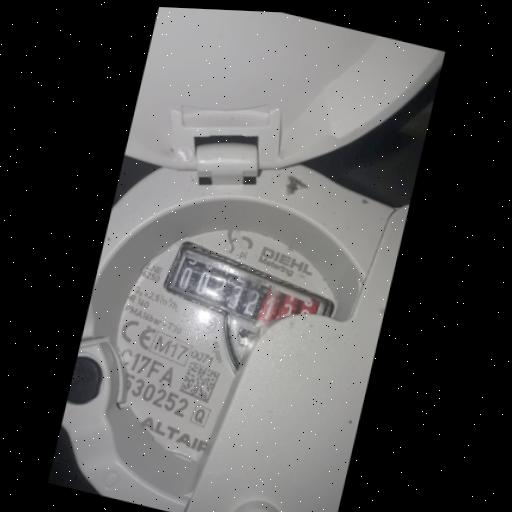0: (171, 255, 203, 296), (190, 261, 219, 301)
1: (253, 286, 285, 328)
2: (237, 279, 268, 321), (207, 269, 234, 307), (274, 293, 302, 326)
3: (220, 274, 250, 315)
border_water_meter_number: (162, 244, 331, 344)
